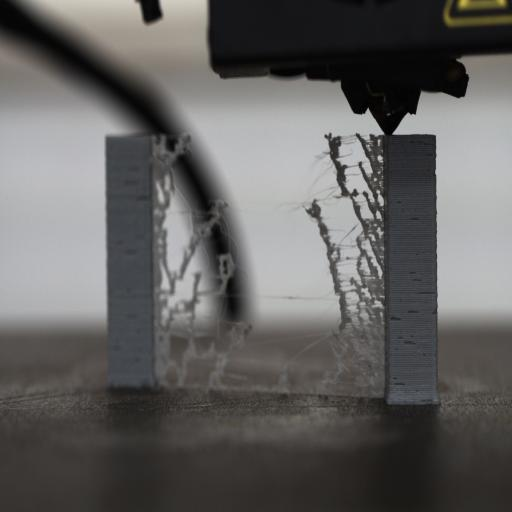stringing: (290, 131, 392, 394), (147, 134, 245, 390)
